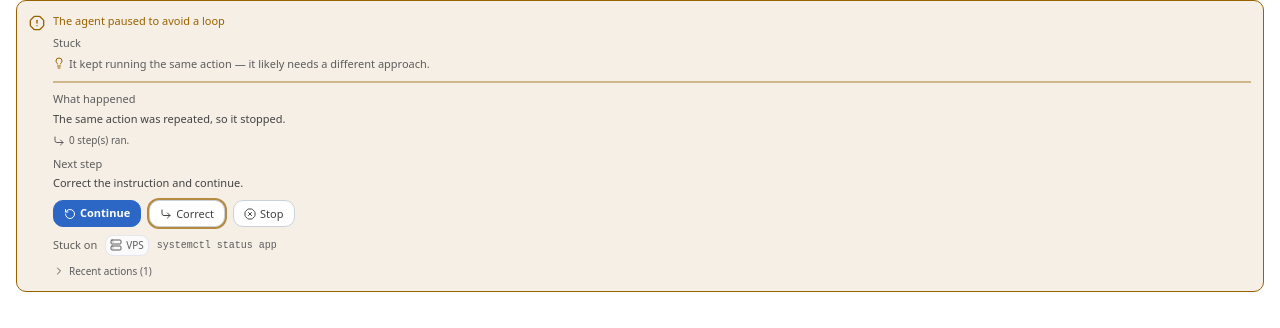
v2.6.0 D.3 - loop stop card › 2. collapses the recent actions until asked
Check: the text "remote_shell(server_id=srv-9, command=systemctl status app)" is not shown
What coordinates should you click on to do the following:
click the button "Recent actions (1)"
I would click on:
 (102, 271)
Its box is [53, 264, 152, 279].
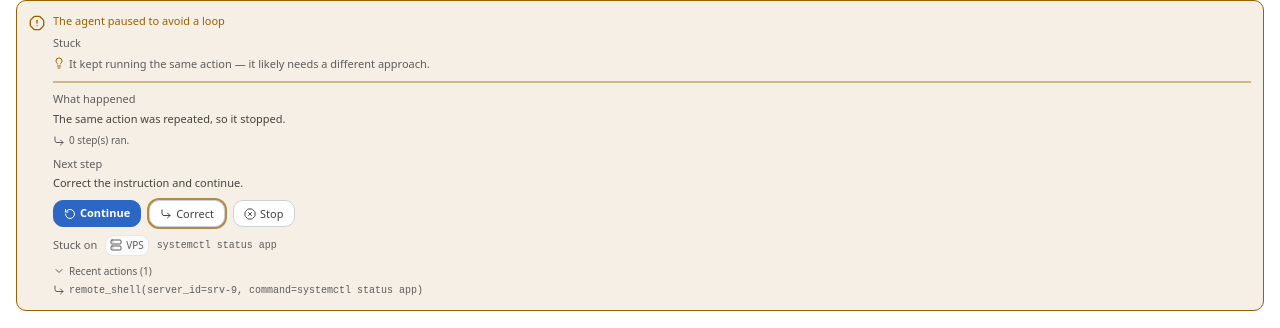
Check: the list item "remote_shell(server_id=srv-9, command=systemctl status app)" is shown, box [53, 284, 423, 296]
Check: the button "Recent actions (1)" is expanded, box [53, 264, 152, 279]
